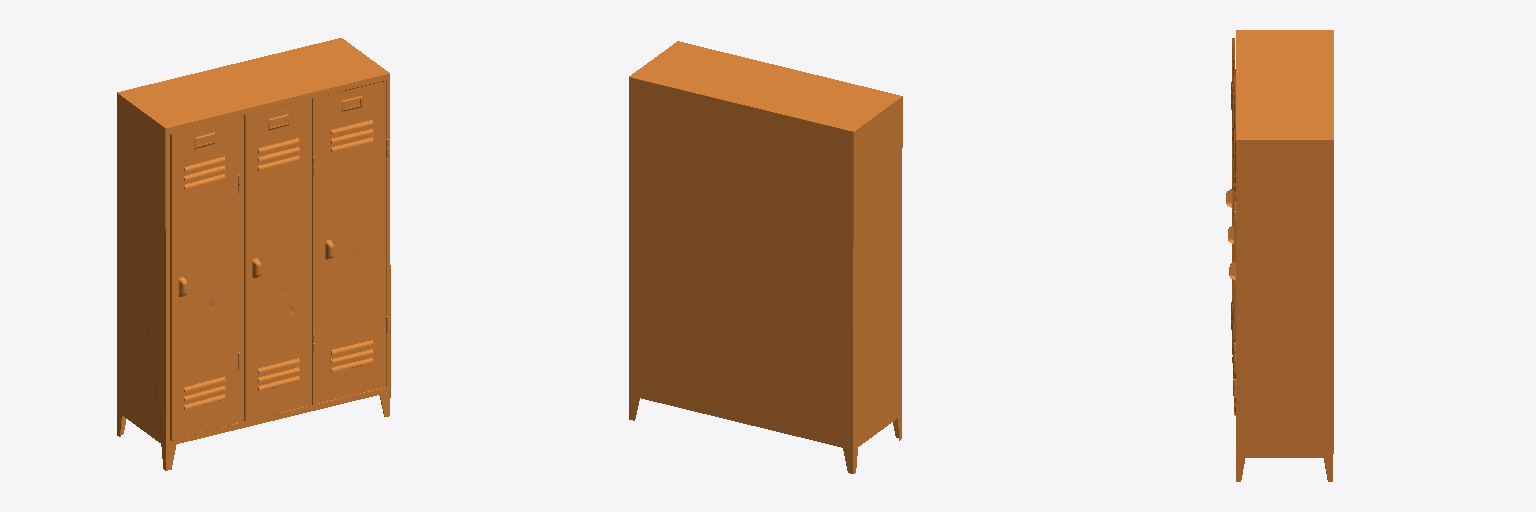
The model's file is Locker.obj.
The picture shows the model from 3 angles: view 1: azimuth 30°, elevation 25°; view 2: azimuth 150°, elevation 25°; view 3: azimuth 270°, elevation 25°; orthographic projection.
Visible parts, largest first — view 1: _______; view 2: _______; view 3: _______.
Part boxes in pixels (bbox=[...]): _______: bbox=[117, 38, 390, 470]; _______: bbox=[629, 41, 902, 473]; _______: bbox=[1226, 30, 1333, 481].
Size of the model in its own units: 13281 by 19320 by 5490.